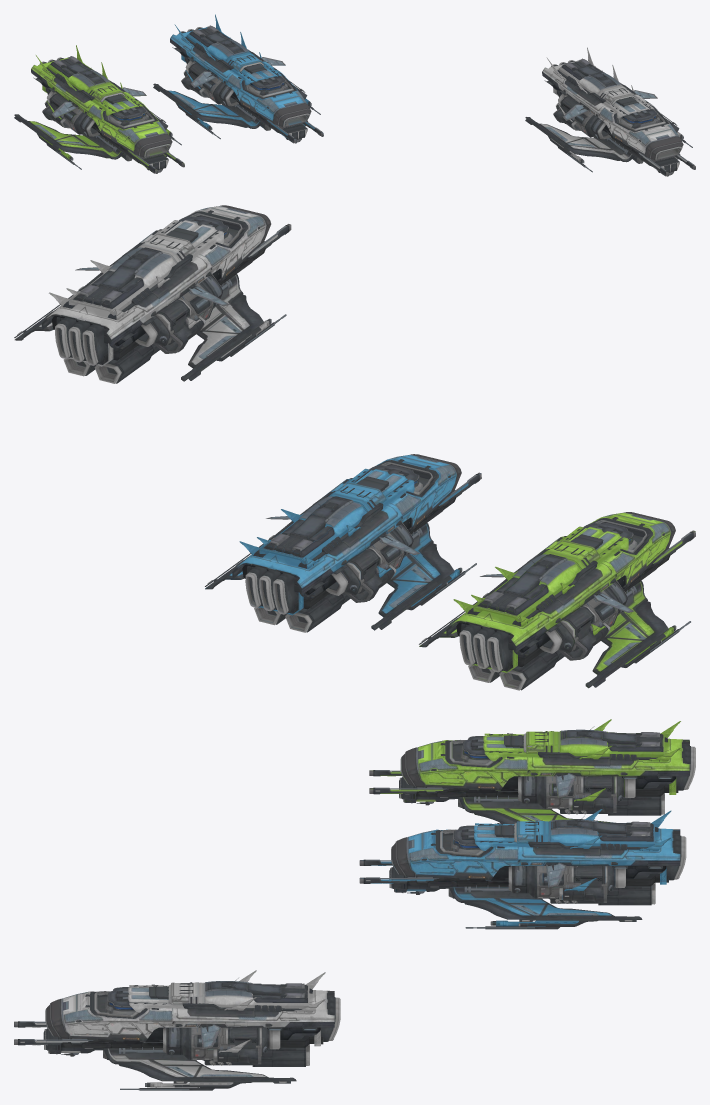
The model's file is spaceship-test_lod3.glb.
3 renders of one model, top to bottom at view 1: azimuth 30°, elevation 25°; view 2: azimuth 150°, elevation 25°; view 3: azimuth 270°, elevation 25°, orthographic. The views are drawn at different scales.
Visible parts, largest first — view 1: Cube.005, Cube.034, Cube.007; view 2: Cube.007, Cube.005, Cube.034; view 3: Cube.034, Cube.007, Cube.005.
Part boxes in pixels (x1,y1,x2,y2): Cube.005: [14, 45, 184, 173]; Cube.034: [153, 14, 323, 143]; Cube.007: [525, 47, 695, 176]; Cube.007: [14, 205, 291, 383]; Cube.005: [419, 512, 695, 690]; Cube.034: [205, 454, 481, 632]; Cube.034: [359, 809, 686, 929]; Cube.007: [14, 970, 340, 1090]; Cube.005: [369, 719, 695, 823].
Bounding box in the file's own units: 120 × 13.48 × 107.
Materials: 3 (3 with a texture image).
